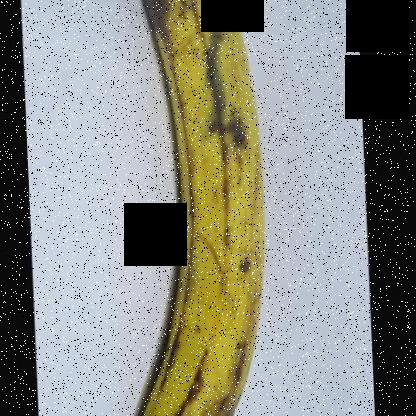ripe: (117, 0, 279, 415)
